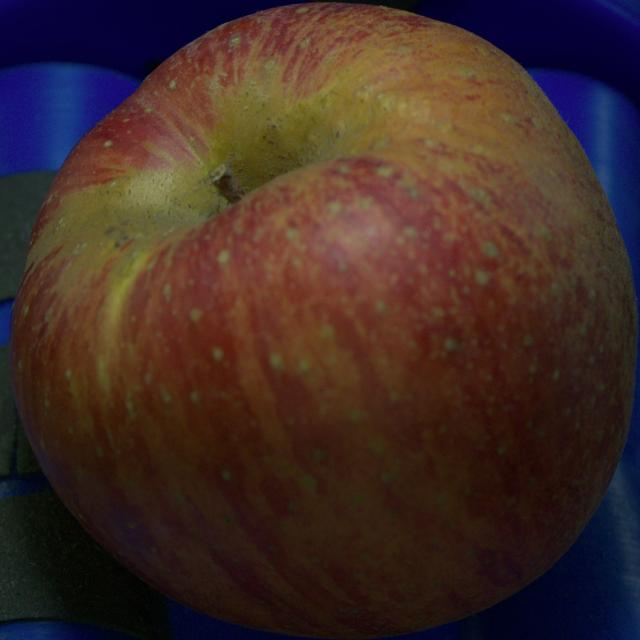apple: (9, 4, 638, 638)
